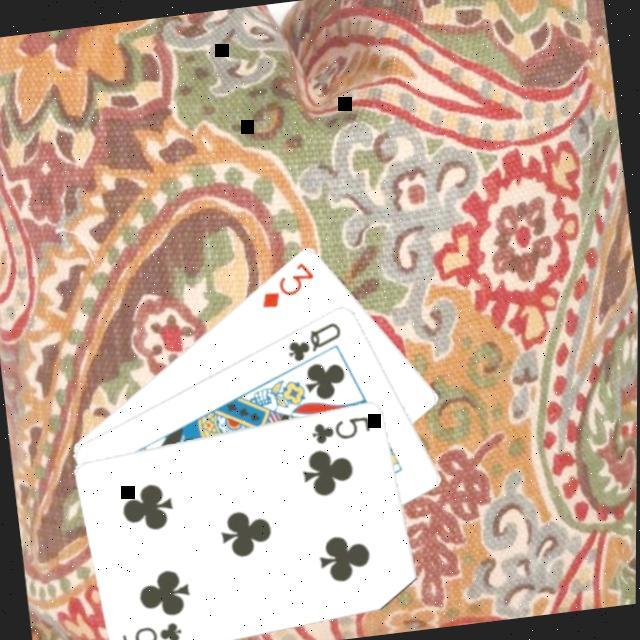3D: (253, 255, 321, 311)
5C: (307, 410, 374, 447), (117, 616, 186, 640)
QC: (280, 317, 346, 364)
